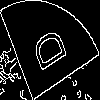D: (25, 25, 68, 79)
